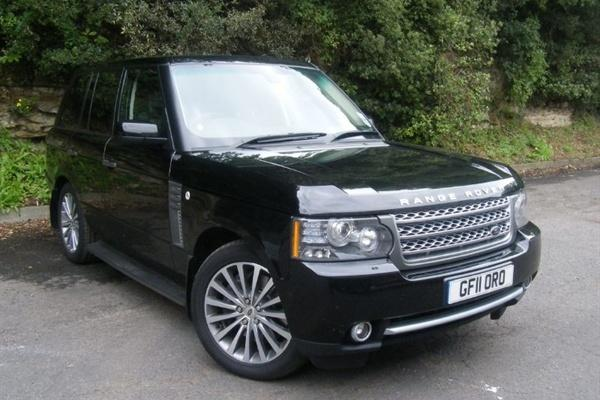range rover: (396, 180, 509, 212)
